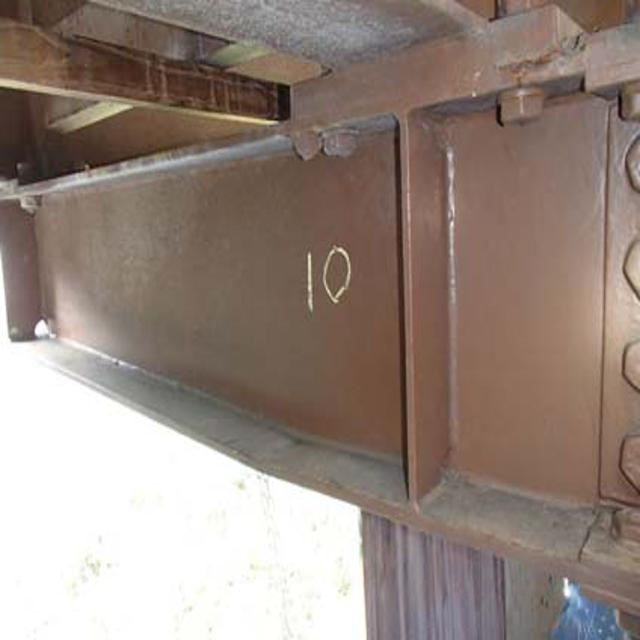corrosion: (45, 23, 302, 150)
